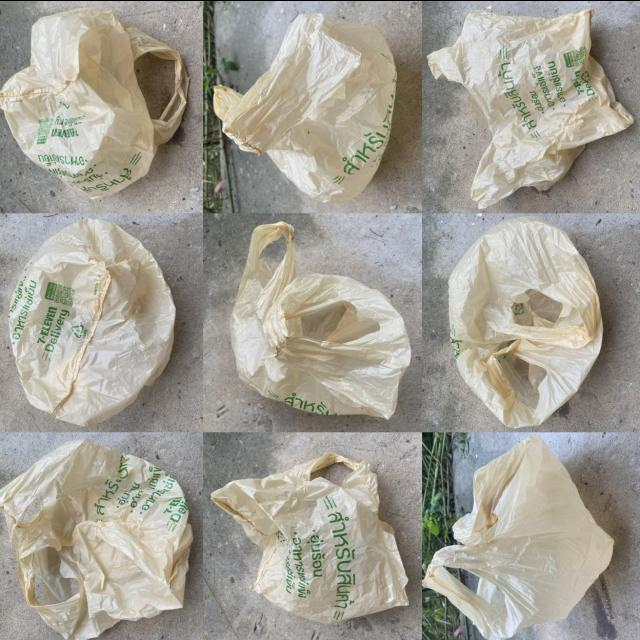plastik: (428, 9, 633, 208), (423, 433, 613, 639), (0, 439, 193, 640), (0, 7, 187, 199), (230, 220, 411, 418), (8, 218, 175, 426), (214, 13, 395, 202), (211, 451, 408, 622), (449, 215, 603, 427)
